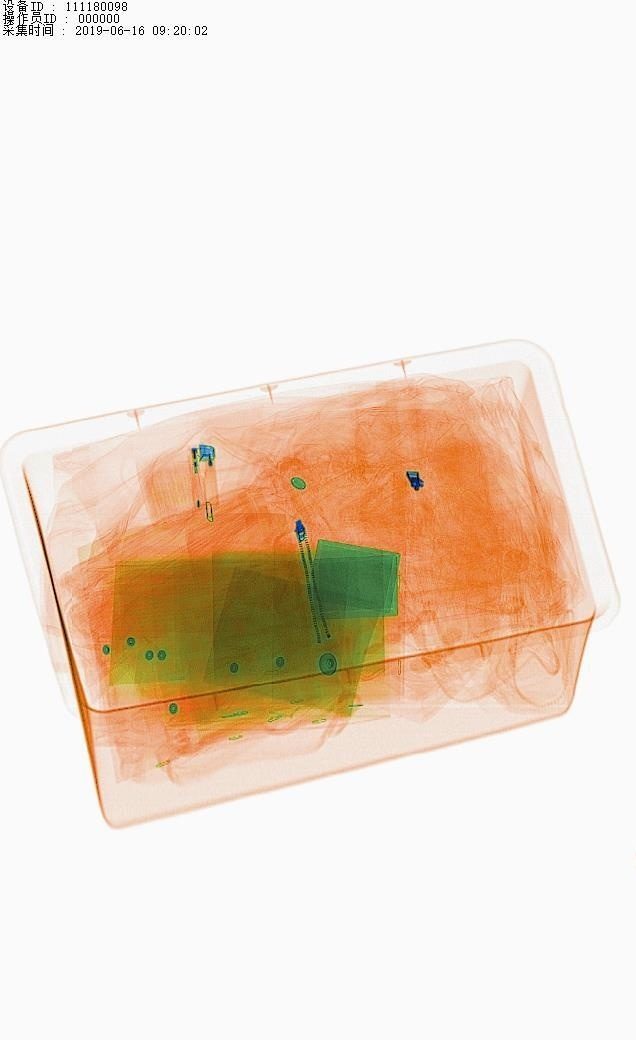NonmetallicFire: (178, 423, 242, 531)
